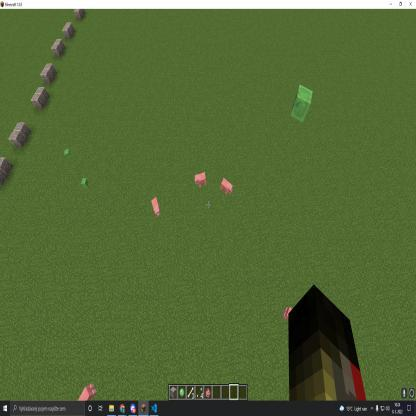pig: (146, 192, 164, 222), (76, 377, 96, 400), (218, 176, 235, 198), (192, 170, 208, 190), (282, 300, 294, 325)
